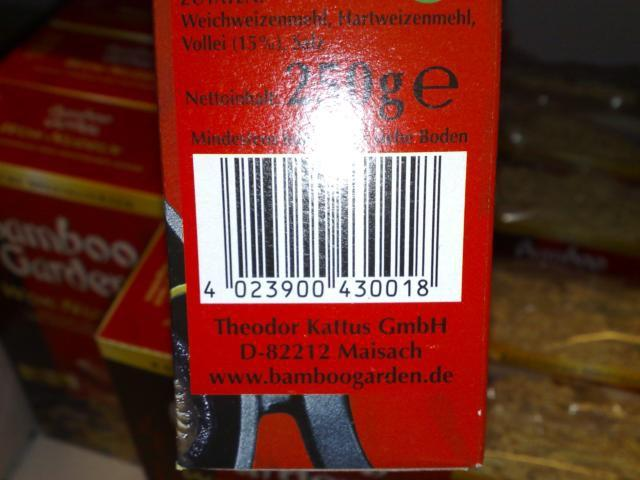Barcode: (191, 153, 467, 302)
